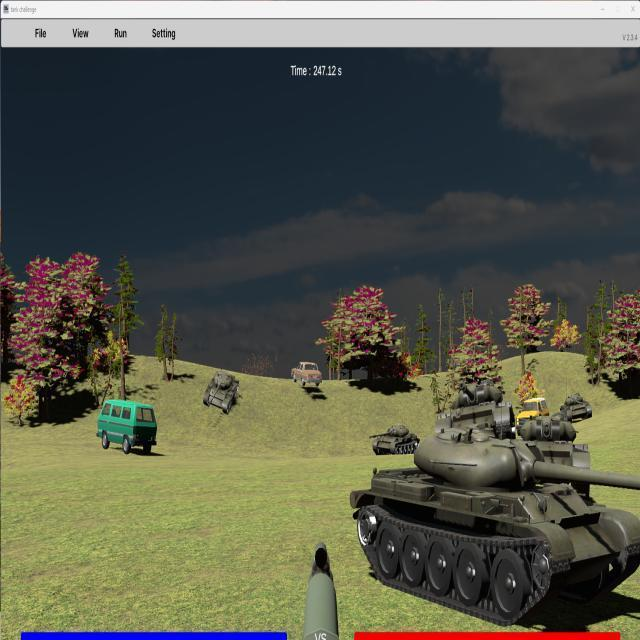Tank: (350, 424, 640, 624), (504, 414, 592, 501), (435, 380, 516, 450), (369, 423, 421, 456), (203, 369, 240, 414), (203, 369, 239, 414), (561, 392, 593, 423)
car: (97, 399, 158, 455), (516, 397, 550, 432), (291, 362, 323, 387)
